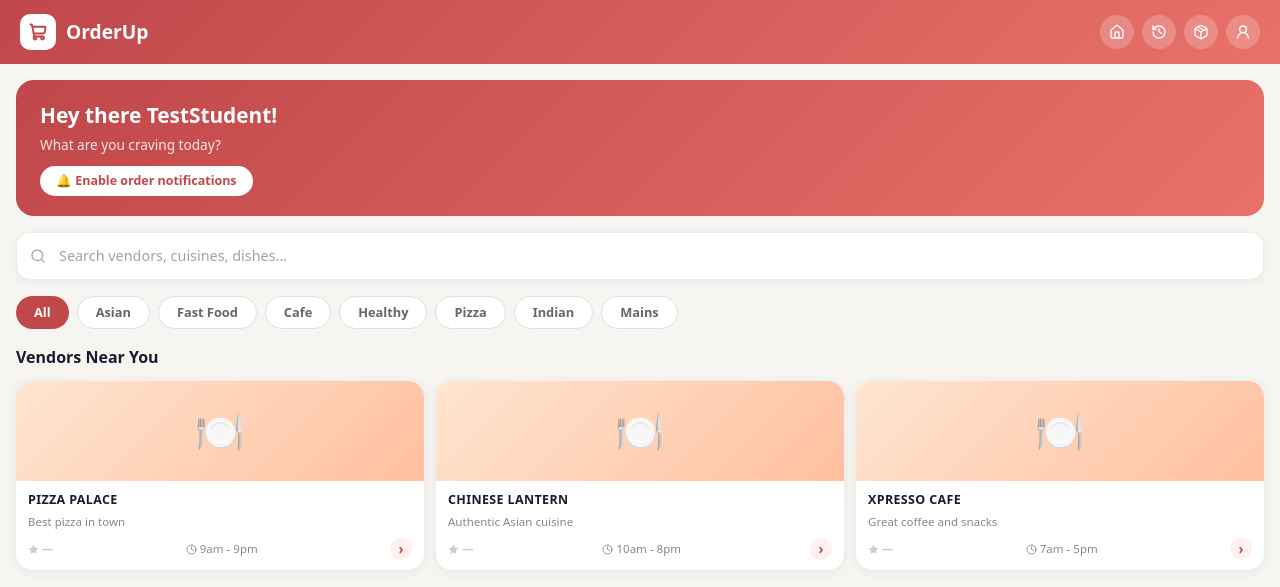
it: StudentDashboard › filters to only Asian vendors when Asian chip is clicked
expect the heading "Chinese Lantern" is shown: met, box x1=448 y1=491 x2=568 y2=508
Step 1. Click the button "Asian" → [113, 312], box x1=77 y1=296 x2=150 y2=329
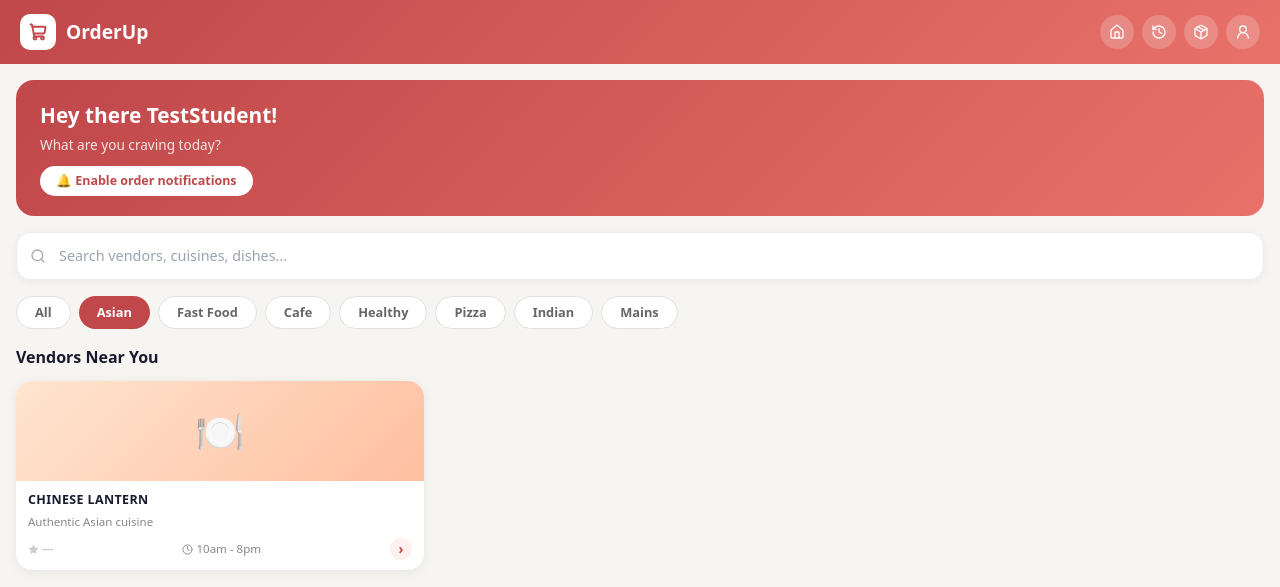
expect the heading "Chinese Lantern" is shown: met, box x1=28 y1=491 x2=148 y2=508
expect the heading "Pizza Palace" is gone: met
